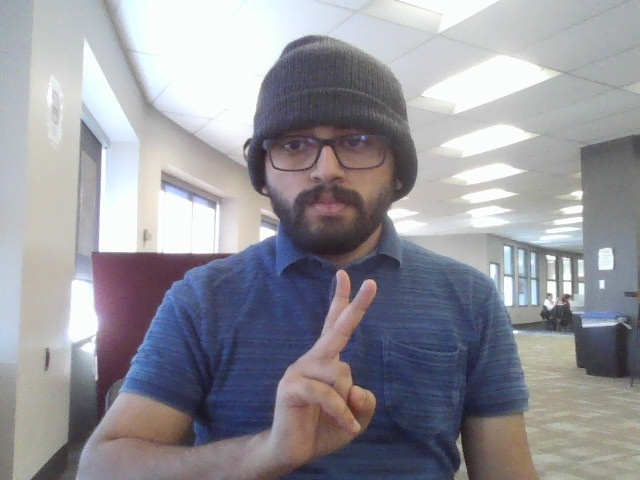start: (256, 263, 405, 467)
